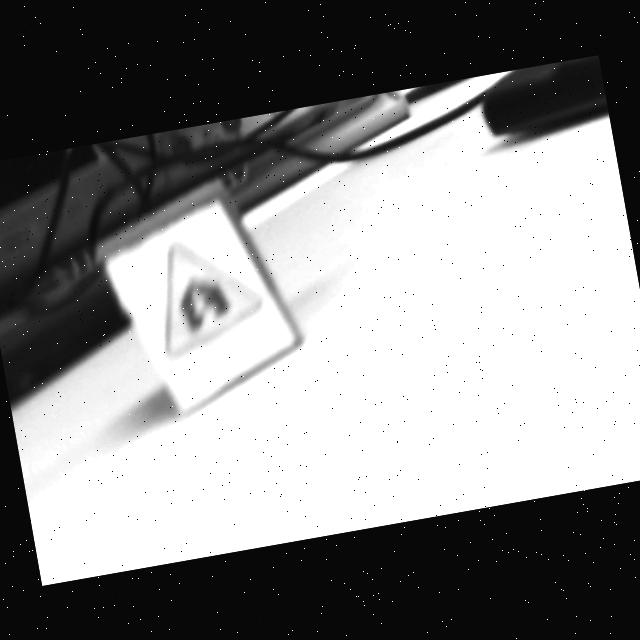Earthquake: (163, 241, 263, 362)
